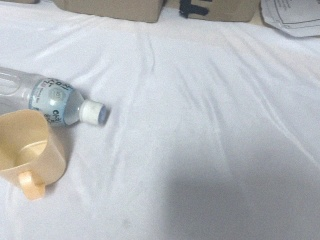bottle: (1, 67, 110, 129)
box: (41, 1, 173, 22), (179, 1, 263, 22)
cup: (1, 108, 69, 202)
